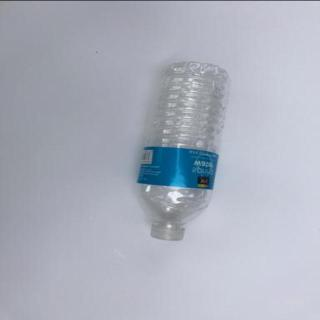Anorganik: (136, 57, 234, 245)
